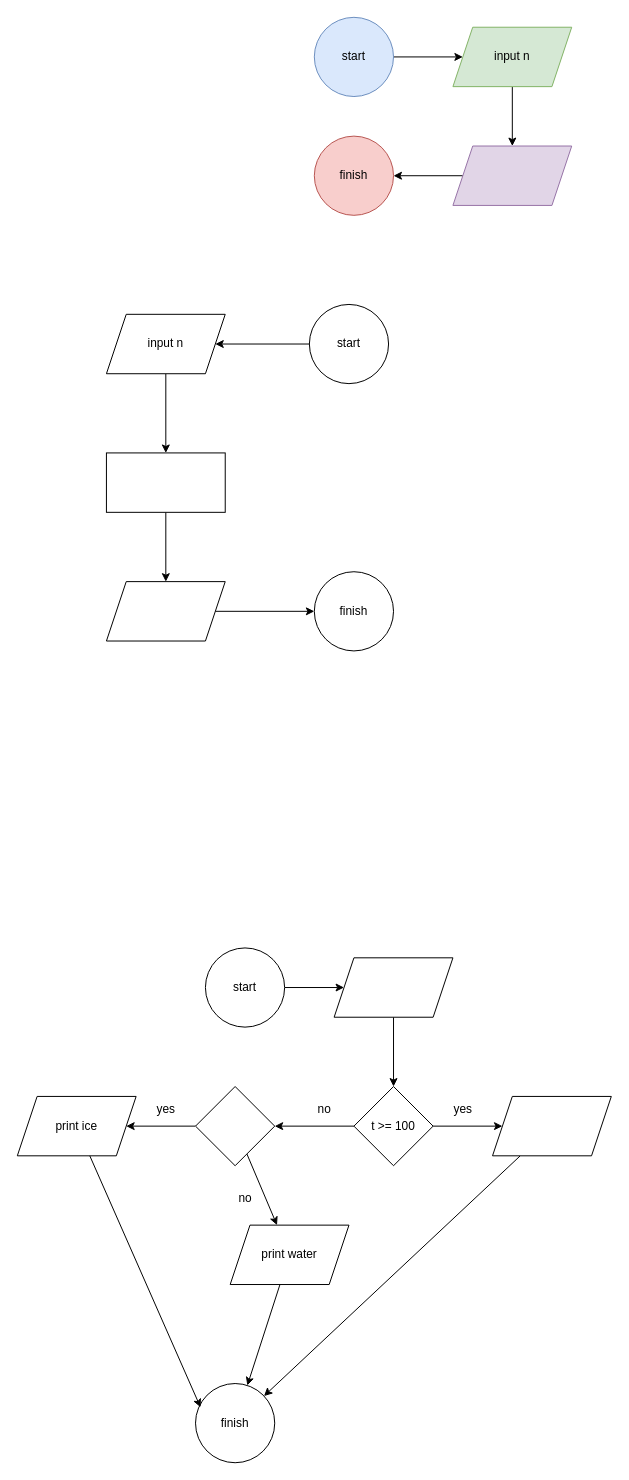
This 629x1480 diagram has some shape labels left out. Each missing label, with the box of its shape:
input t: (333, 957, 453, 1017)
print n: (452, 145, 572, 205)
print s: (105, 581, 225, 641)
print steam: (492, 1095, 611, 1156)
s = n * 2: (105, 452, 225, 512)
t < 0: (195, 1086, 275, 1166)
